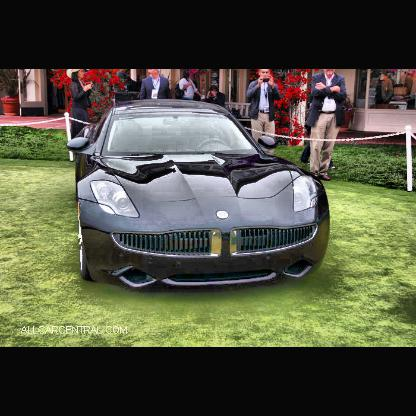Fisker Karma Sedan 2012: (68, 99, 333, 292)
